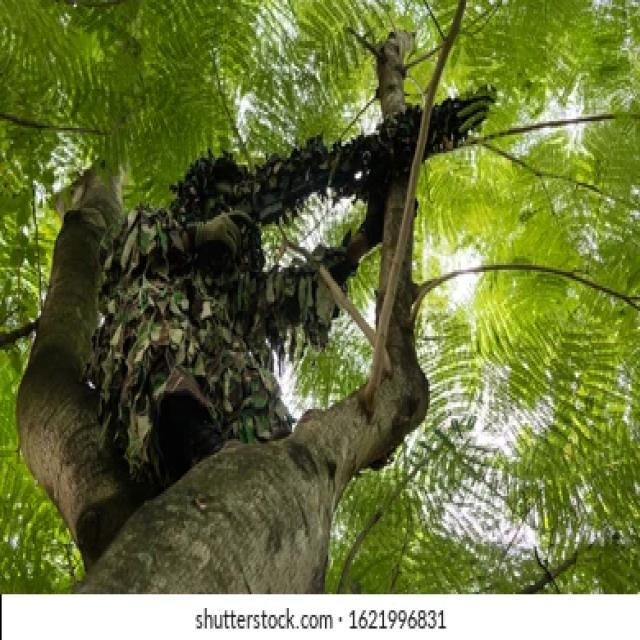soldier: (104, 86, 498, 482)
